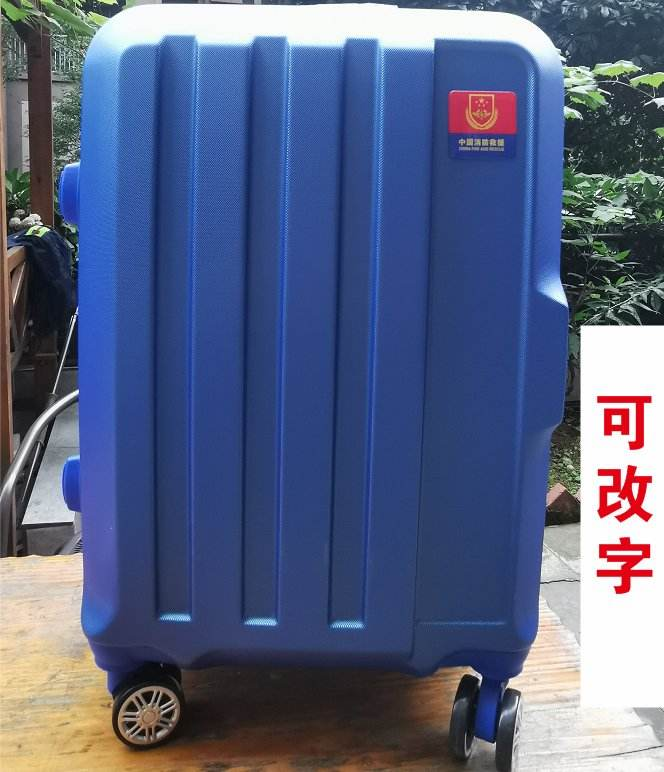box: (79, 5, 565, 682)
wheel: (449, 674, 525, 772), (108, 663, 184, 751)
